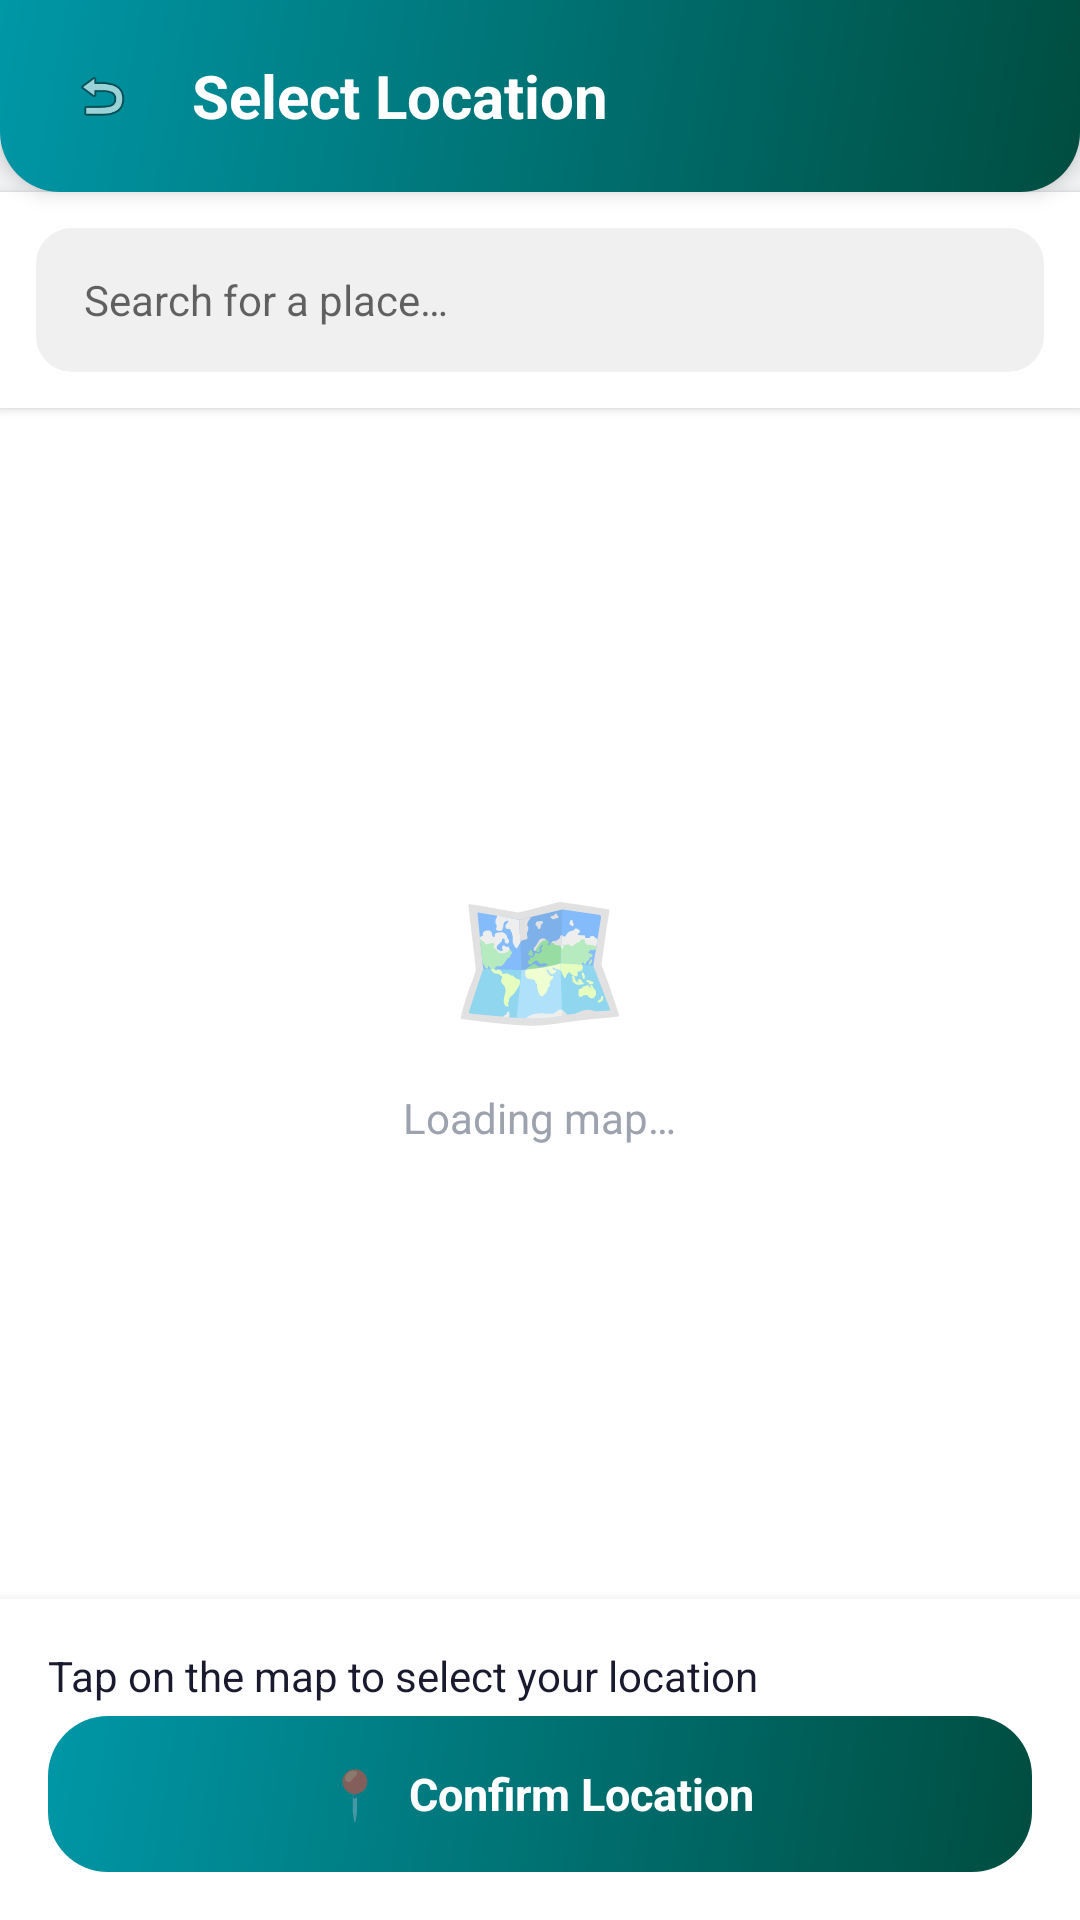

Locate icon controls on the screen. Image size 1080w x 1920h, boxes as (x1, y1, x2, y2).
Back: (81, 77, 124, 116)
